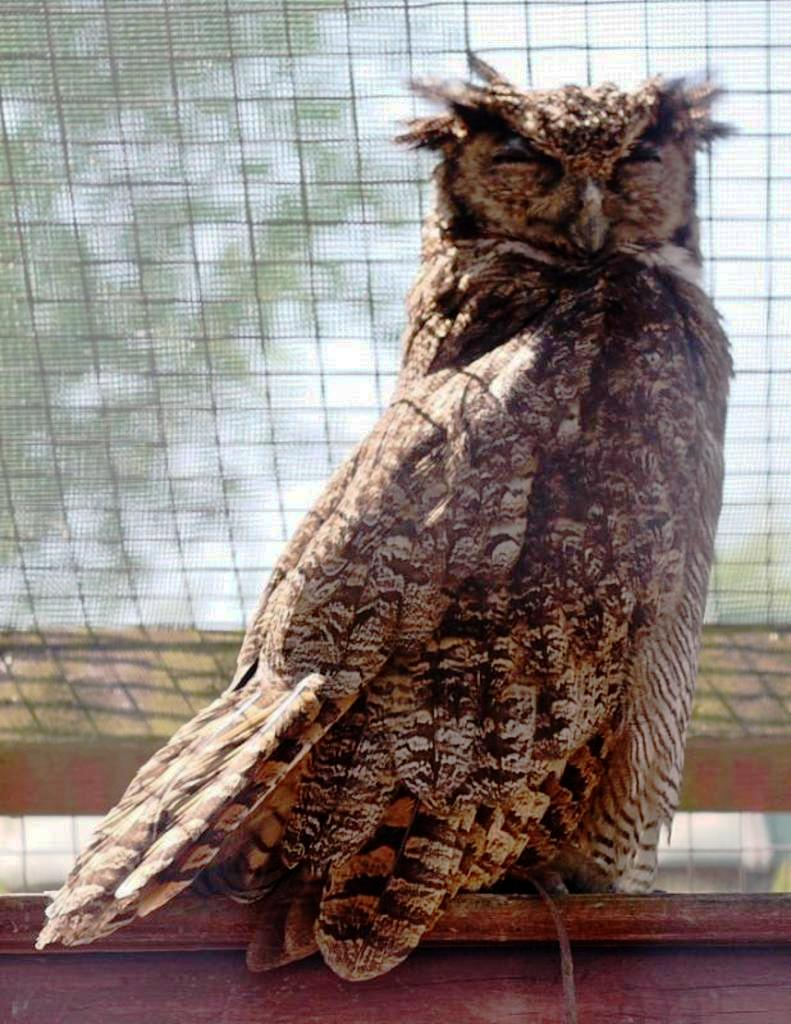Owl: (23, 48, 738, 1000)
